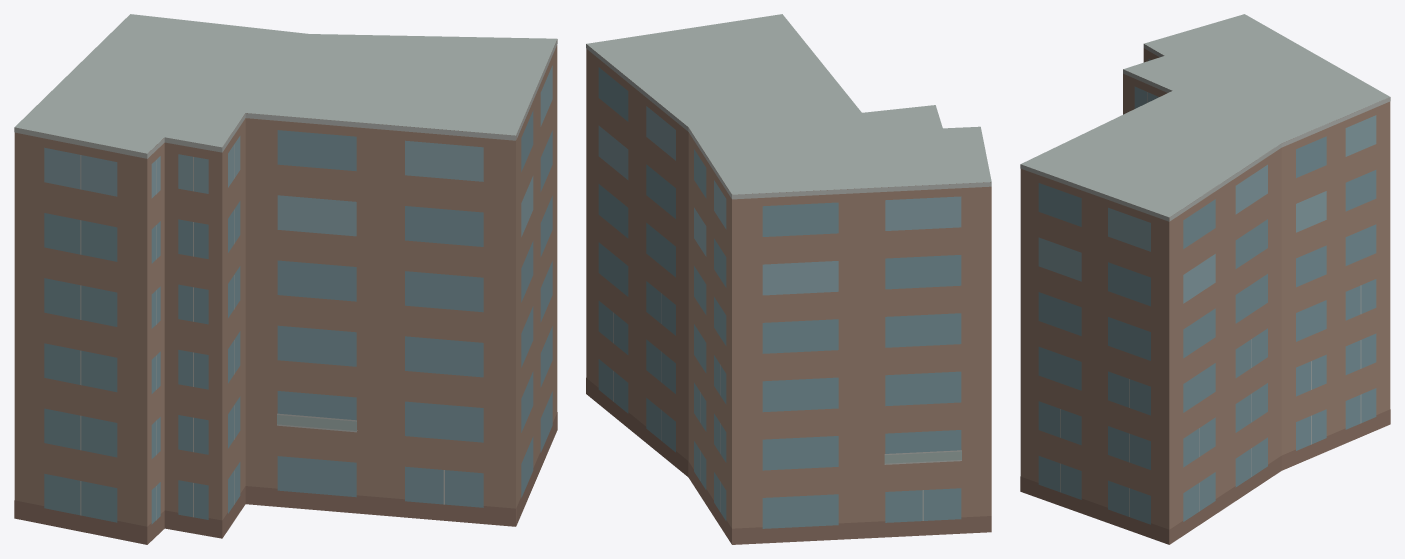
Rendered from survey-upis-32845541.glb.
The picture shows the model from 3 angles, left to right: view 1: azimuth 30°, elevation 25°; view 2: azimuth 150°, elevation 25°; view 3: azimuth 270°, elevation 25°; orthographic projection. The views are drawn at different scales.
Visible parts, largest first — view 1: survey-upis-32845541.tmp; view 2: survey-upis-32845541.tmp; view 3: survey-upis-32845541.tmp.
Part boxes in pixels (bbox=[...]): survey-upis-32845541.tmp: bbox=[14, 14, 557, 544]; survey-upis-32845541.tmp: bbox=[586, 14, 991, 544]; survey-upis-32845541.tmp: bbox=[1020, 14, 1390, 544].
Size of the model in its own units: 24.52 by 18.4 by 18.85.
